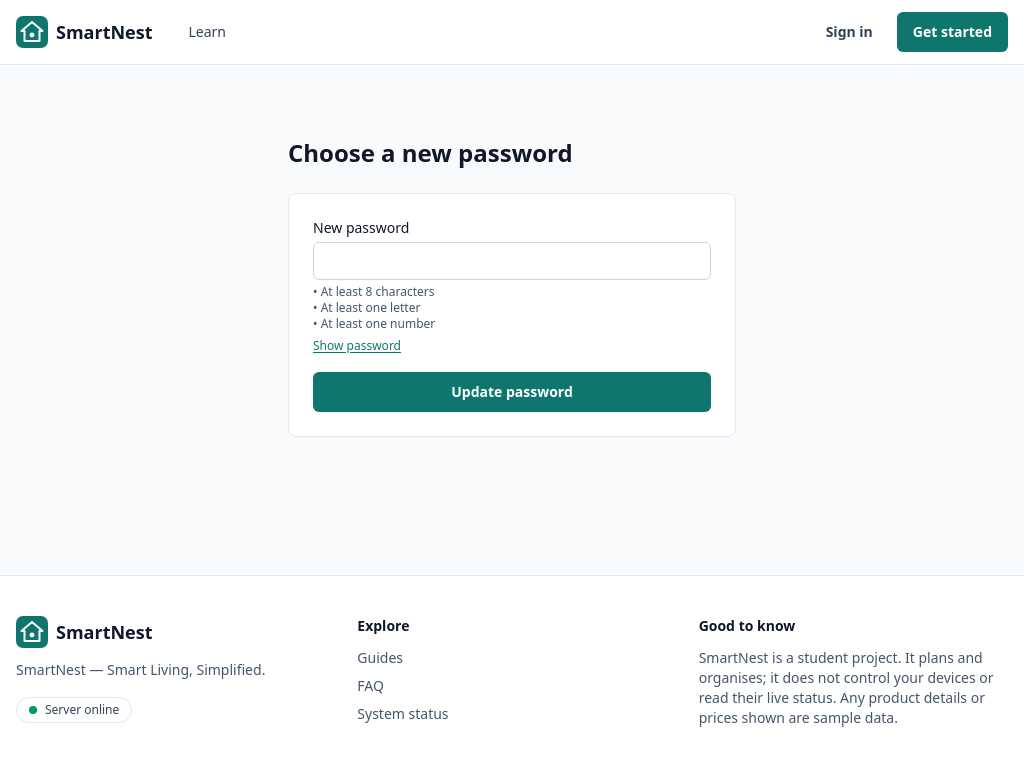
Test case: password reset pages › submits a new password with the token from the link
Type "BrandNew2024pw" into the password field labelled "New password".
click(512, 261); type("BrandNew2024pw")  # box [313,242,711,280]
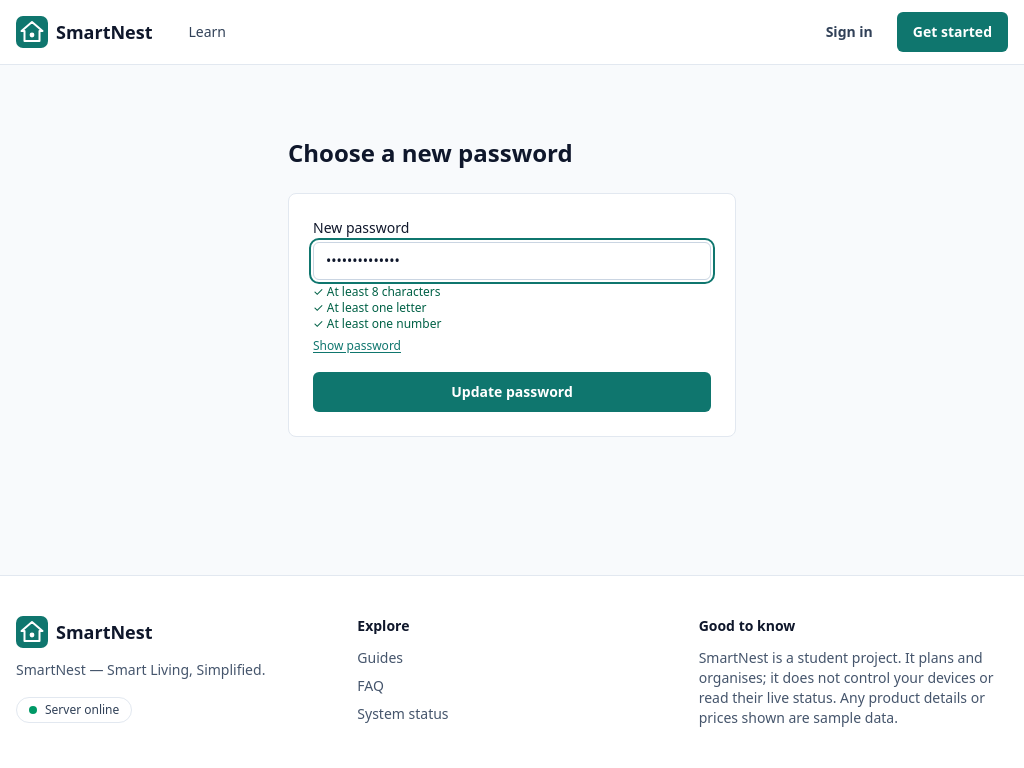
Click the button "Update password".
click(512, 392)  # box [313,372,711,412]
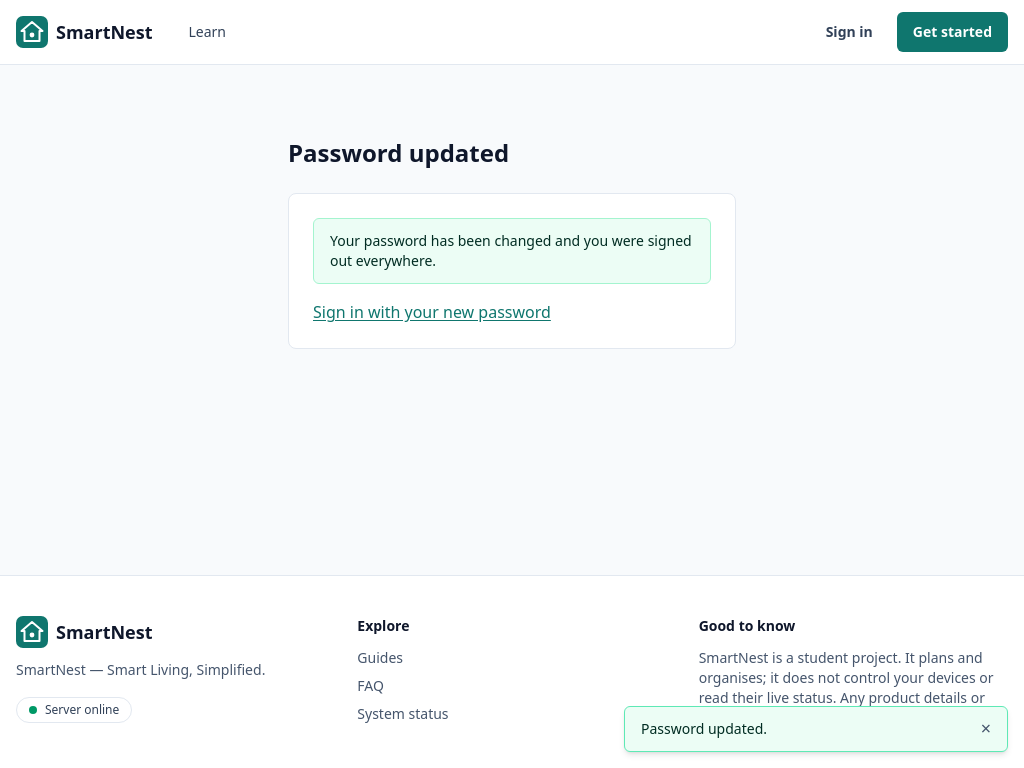
Expected: the heading "Password updated" is shown, [288,136,509,169]
